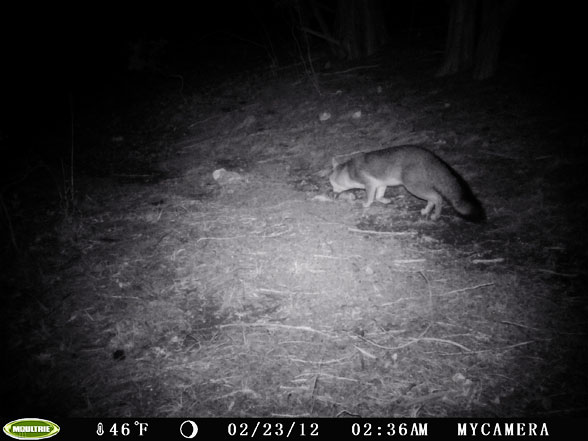fox: (317, 135, 516, 233)
